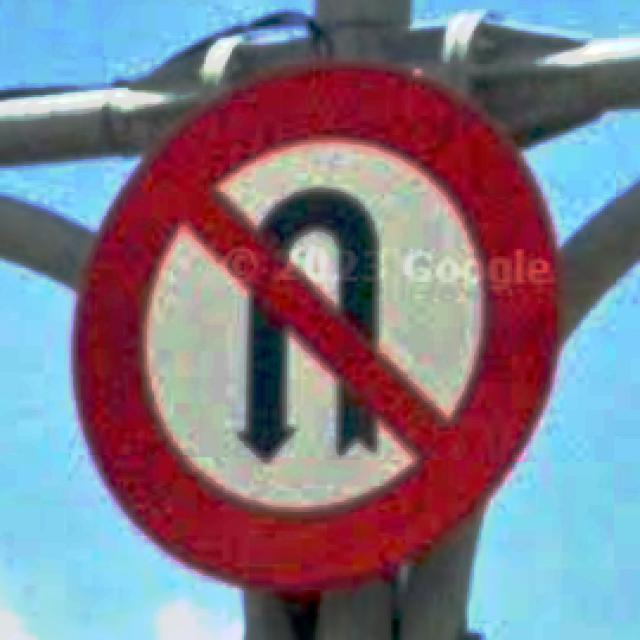nouturn: (71, 64, 562, 593)
